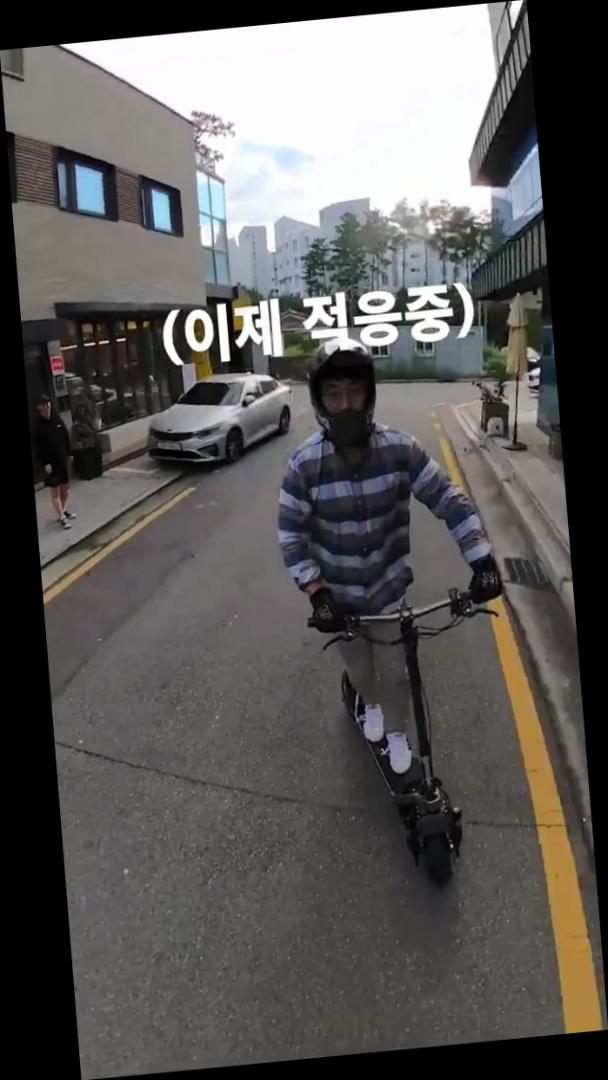helmet: (263, 321, 529, 901)
